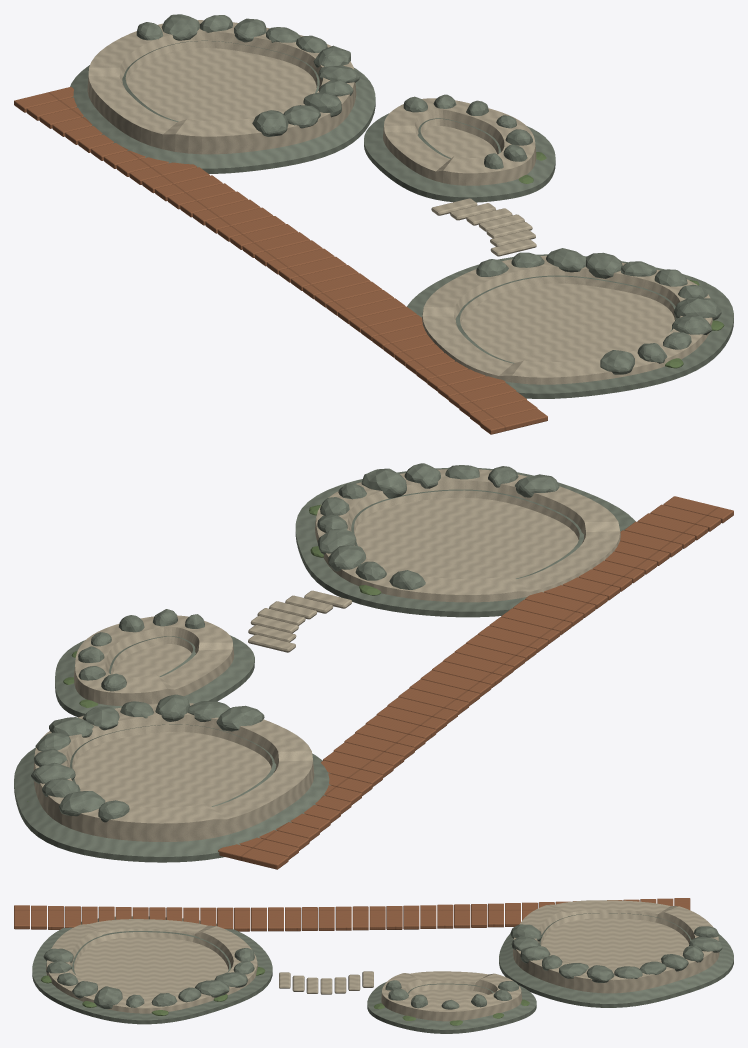
File: springs.glb
3 views of the same model, one above another, from view 1: azimuth 30°, elevation 25°; view 2: azimuth 150°, elevation 25°; view 3: azimuth 270°, elevation 25° (orthographic). The views are drawn at different scales.
Parts seen in each view (by area): view 1: walk / Oiled cedar, lower / Warm limestone, upper / Warm limestone, upper / River basalt, lower / River basalt, middle / Warm limestone, middle / River basalt, walk / Warm limestone; view 2: walk / Oiled cedar, lower / Warm limestone, upper / Warm limestone, upper / River basalt, lower / River basalt, middle / Warm limestone, middle / River basalt, walk / Warm limestone; view 3: lower / Warm limestone, upper / Warm limestone, walk / Oiled cedar, upper / River basalt, lower / River basalt, middle / Warm limestone, middle / River basalt, walk / Warm limestone, lower / Sage moss, middle / Sage moss.
Boxes of the visible parts, x1,y1,x2,y2 form: walk / Oiled cedar: (14,87,547,434); lower / Warm limestone: (422,255,712,384); upper / Warm limestone: (87,20,356,154); upper / River basalt: (70,14,375,173); lower / River basalt: (407,248,733,398); middle / Warm limestone: (383,98,536,185); middle / River basalt: (364,94,555,202); walk / Warm limestone: (431,198,536,256); walk / Oiled cedar: (218,496,733,869); lower / Warm limestone: (315,469,620,602); upper / Warm limestone: (33,703,314,841); upper / River basalt: (14,694,330,862); lower / River basalt: (295,463,635,617); middle / Warm limestone: (74,615,234,706); middle / River basalt: (55,609,254,717); walk / Warm limestone: (248,590,352,652); lower / Warm limestone: (46,919,257,1013); upper / Warm limestone: (513,900,719,993); walk / Oiled cedar: (14,898,690,931); upper / River basalt: (499,913,733,1007); lower / River basalt: (32,916,272,1024); middle / Warm limestone: (381,971,522,1021); middle / River basalt: (367,980,536,1033); walk / Warm limestone: (279,971,373,994); lower / Sage moss: (41,967,265,1015); middle / Sage moss: (374,999,529,1025).
Bounding box in the file's own units: 11.35 × 1.2 × 26.37.
Materials: 4 (4 with a texture image).
